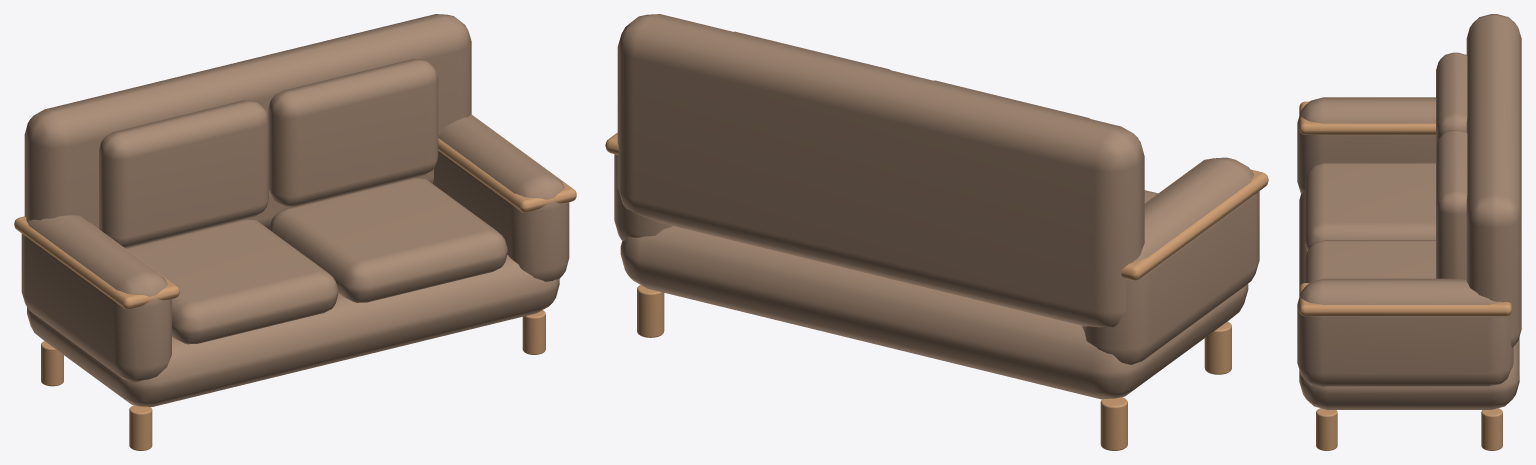
File: sofaTanLeather.glb
3 renders of one model, left to right at view 1: azimuth 30°, elevation 25°; view 2: azimuth 150°, elevation 25°; view 3: azimuth 270°, elevation 25°, orthographic. The views are drawn at different scales.
Visible parts, largest first — view 1: Sofa back, Upholstered base, Back cushion.001, Back cushion, Seat cushion.001, Seat cushion, Rolled arm, Rolled arm.001, Wooden arm trim, Wooden arm trim.001, Furniture foot, Furniture foot.002 (+1 smaller); view 2: Sofa back, Upholstered base, Rolled arm, Wooden arm trim, Furniture foot.001, Rolled arm.001, Furniture foot.003, Furniture foot; view 3: Rolled arm.001, Sofa back, Seat cushion, Rolled arm, Upholstered base, Seat cushion.001, Back cushion.001, Wooden arm trim.001, Back cushion, Wooden arm trim, Furniture foot.002, Furniture foot.003.
Part boxes in pixels (bbox=[...]): Sofa back: bbox=[24, 14, 471, 229]; Upholstered base: bbox=[27, 255, 559, 406]; Back cushion.001: bbox=[268, 59, 438, 206]; Back cushion: bbox=[99, 100, 268, 248]; Seat cushion.001: bbox=[269, 177, 507, 302]; Seat cushion: bbox=[125, 219, 338, 344]; Rolled arm: bbox=[21, 215, 171, 382]; Rolled arm.001: bbox=[433, 114, 569, 281]; Wooden arm trim: bbox=[14, 216, 179, 309]; Wooden arm trim.001: bbox=[438, 115, 576, 212]; Furniture foot: bbox=[129, 405, 152, 450]; Furniture foot.002: bbox=[522, 310, 545, 354]; Sofa back: bbox=[617, 14, 1144, 327]; Upholstered base: bbox=[620, 226, 1248, 399]; Rolled arm: bbox=[1082, 157, 1259, 364]; Wooden arm trim: bbox=[1121, 159, 1268, 280]; Furniture foot.001: bbox=[1100, 397, 1127, 450]; Rolled arm.001: bbox=[614, 154, 672, 240]; Furniture foot.003: bbox=[637, 285, 664, 337]; Furniture foot: bbox=[1204, 321, 1231, 374]; Rolled arm.001: bbox=[1297, 278, 1513, 386]; Sofa back: bbox=[1466, 14, 1521, 347]; Seat cushion: bbox=[1305, 162, 1435, 251]; Rolled arm: bbox=[1297, 97, 1435, 193]; Upholstered base: bbox=[1299, 191, 1519, 409]; Seat cushion.001: bbox=[1305, 240, 1435, 282]; Back cushion.001: bbox=[1436, 130, 1467, 278]; Wooden arm trim.001: bbox=[1299, 283, 1511, 316]; Back cushion: bbox=[1436, 52, 1467, 146]; Wooden arm trim: bbox=[1299, 101, 1435, 134]; Furniture foot.002: bbox=[1316, 408, 1337, 450]; Furniture foot.003: bbox=[1481, 408, 1502, 450].
Size of the model in its own units: 2.49 by 1.41 by 1.14.
